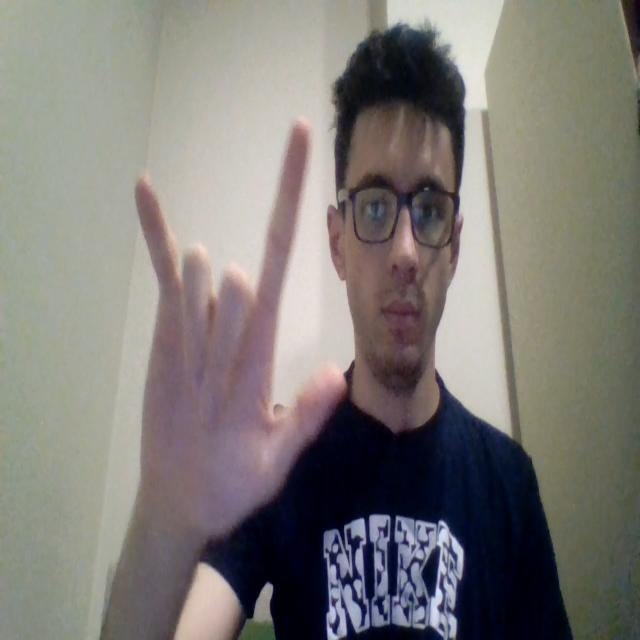iloveyou: (132, 116, 348, 544)
